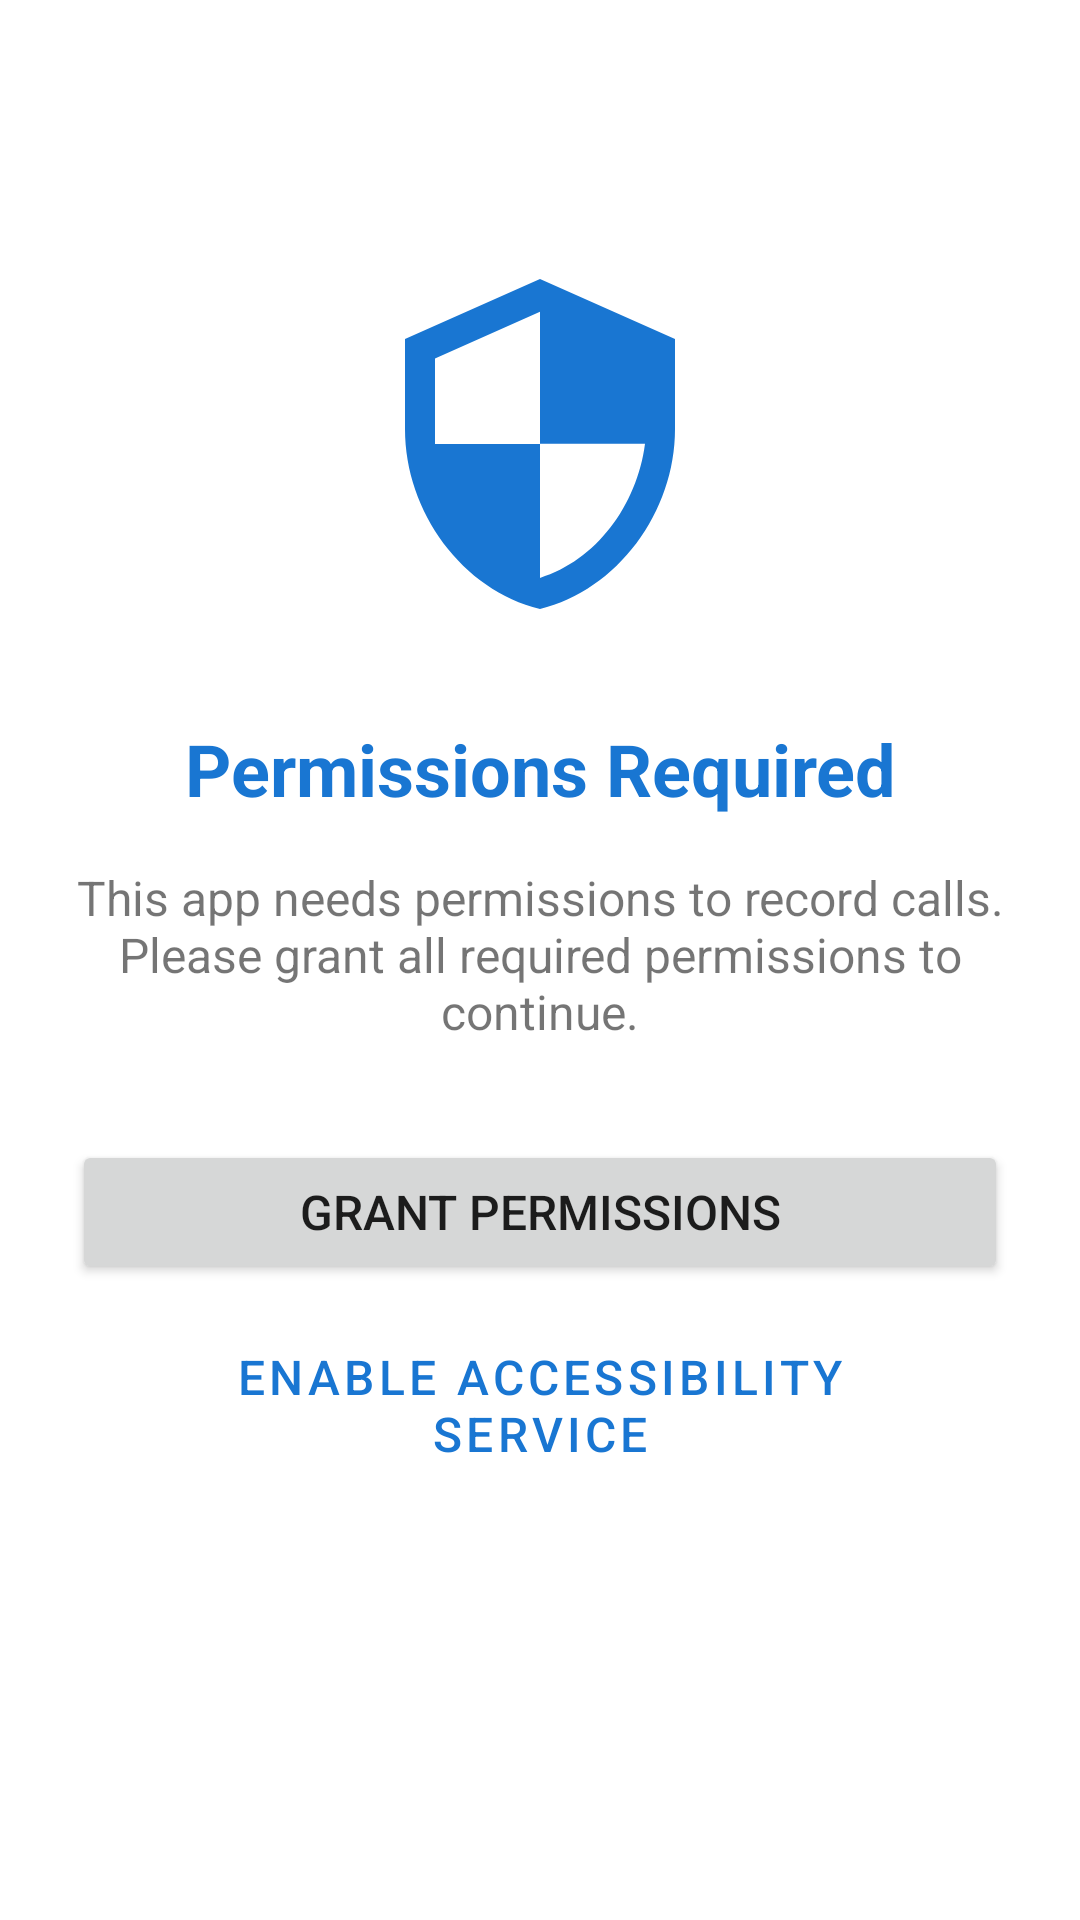

Where icons sit on this 1080px×1920px app screen, as (x1, y1, x2, y2):
Permission Icon: (405, 279, 675, 609)
